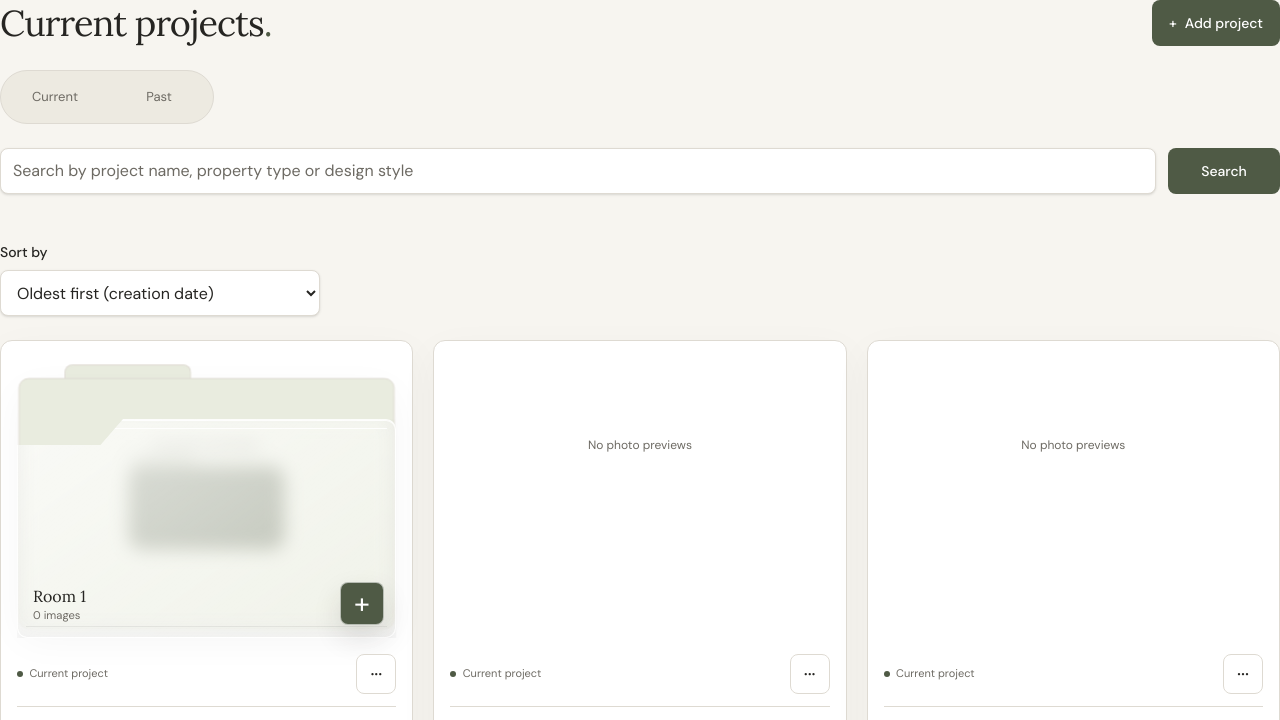
Test case: a list failure hides old cards and retries the same search, sort and page
Select "Newest first (creation date)" in the dropdown labelled "Sort by" at (160, 293), box [0,270,320,316]
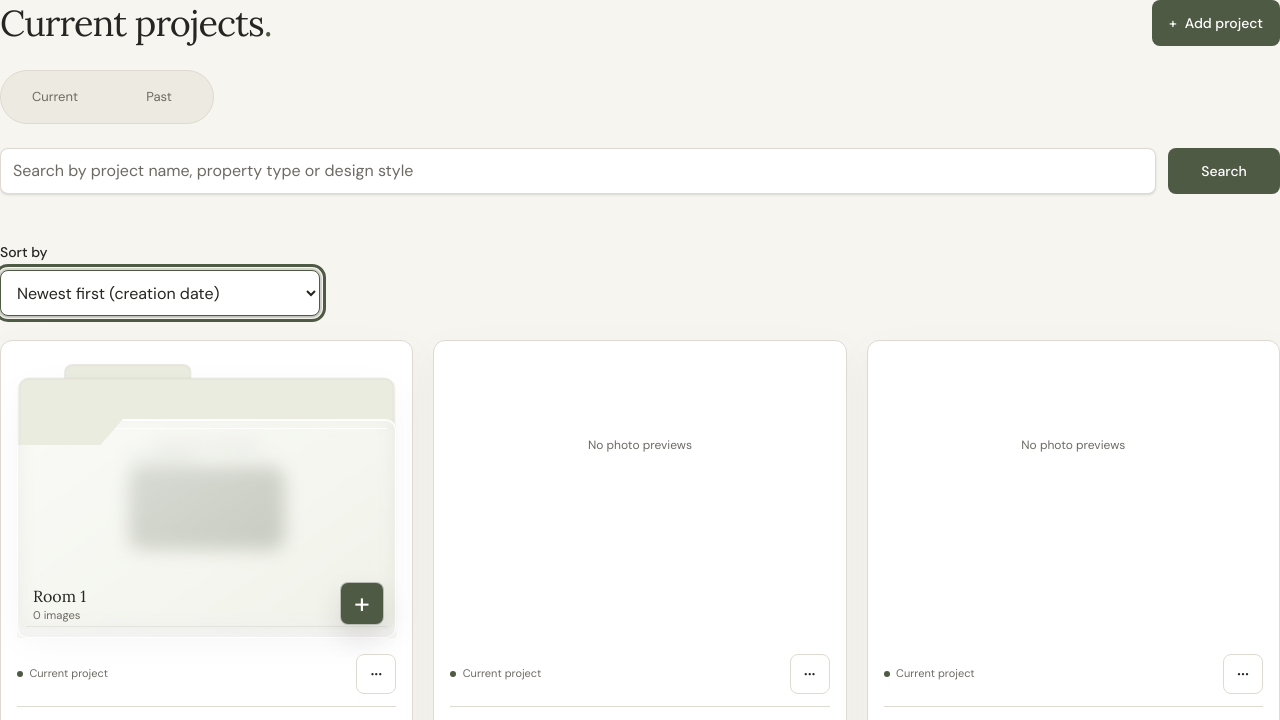
Type "Room" into the field labelled "Search".
click(578, 171); type("Room")  # box [0,148,1156,194]
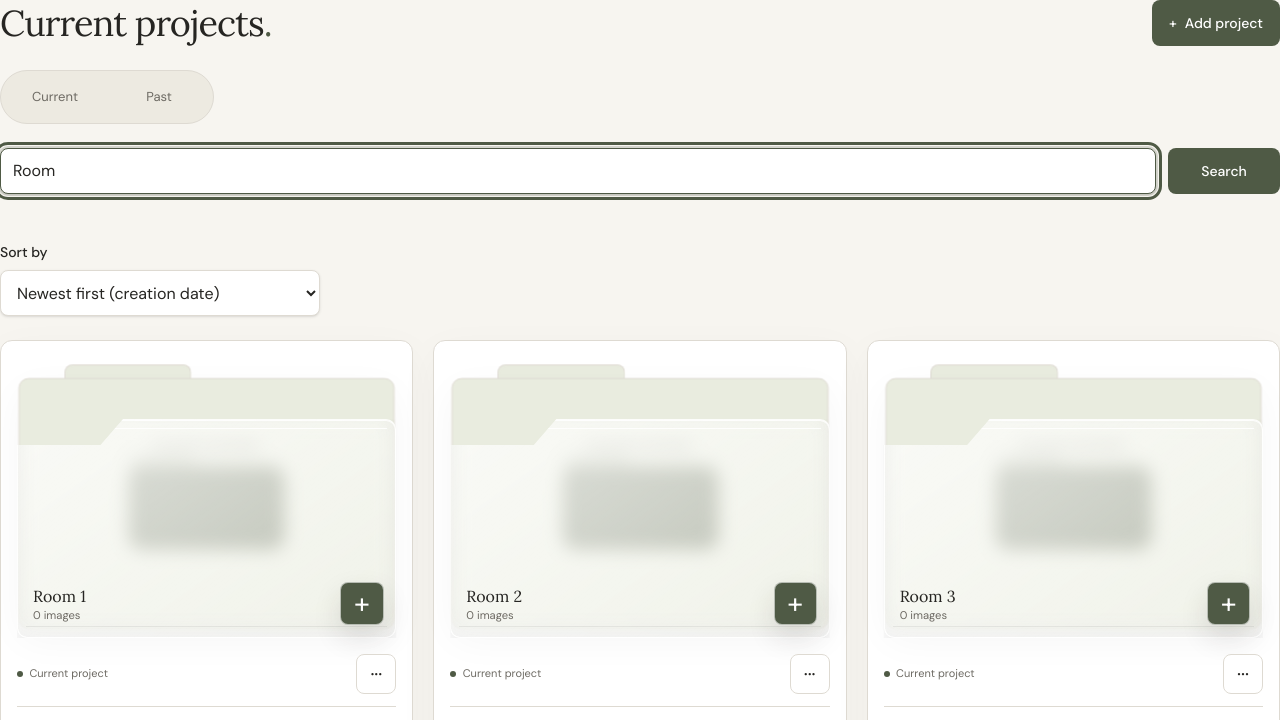
Click the button "Search".
click(1224, 171)  # box [1168,148,1279,194]
(page scrolled)
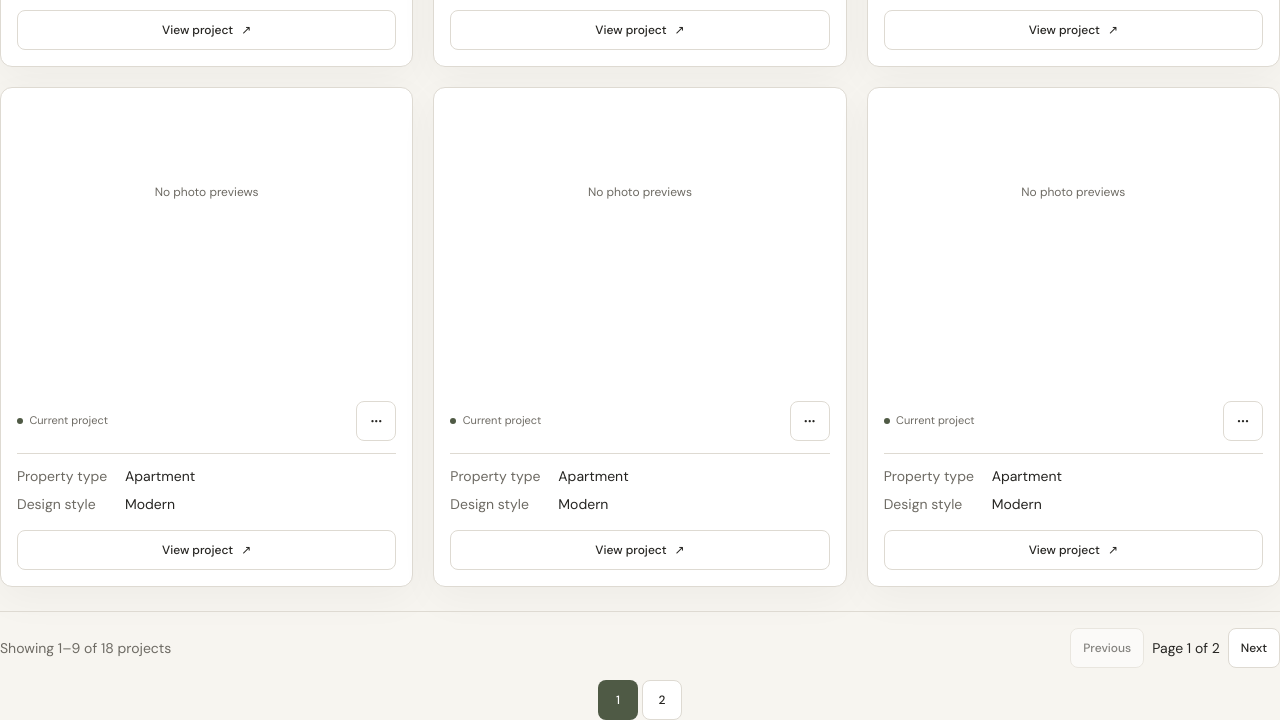
Click the button named "Page 2".
click(662, 700)  # box [642,680,682,719]
(page scrolled)
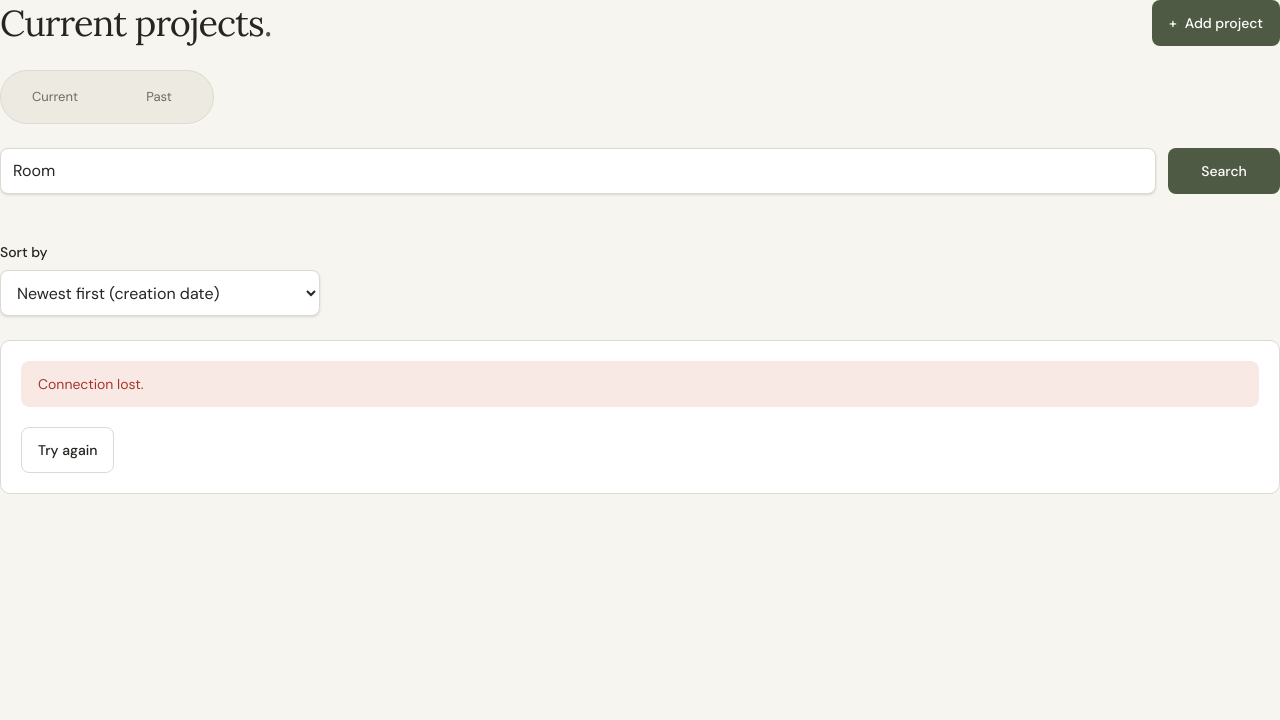
expect the message "Connection lost." is shown: met, box [21,361,1259,407]
Click the button "Try again".
click(68, 450)  # box [21,427,114,473]
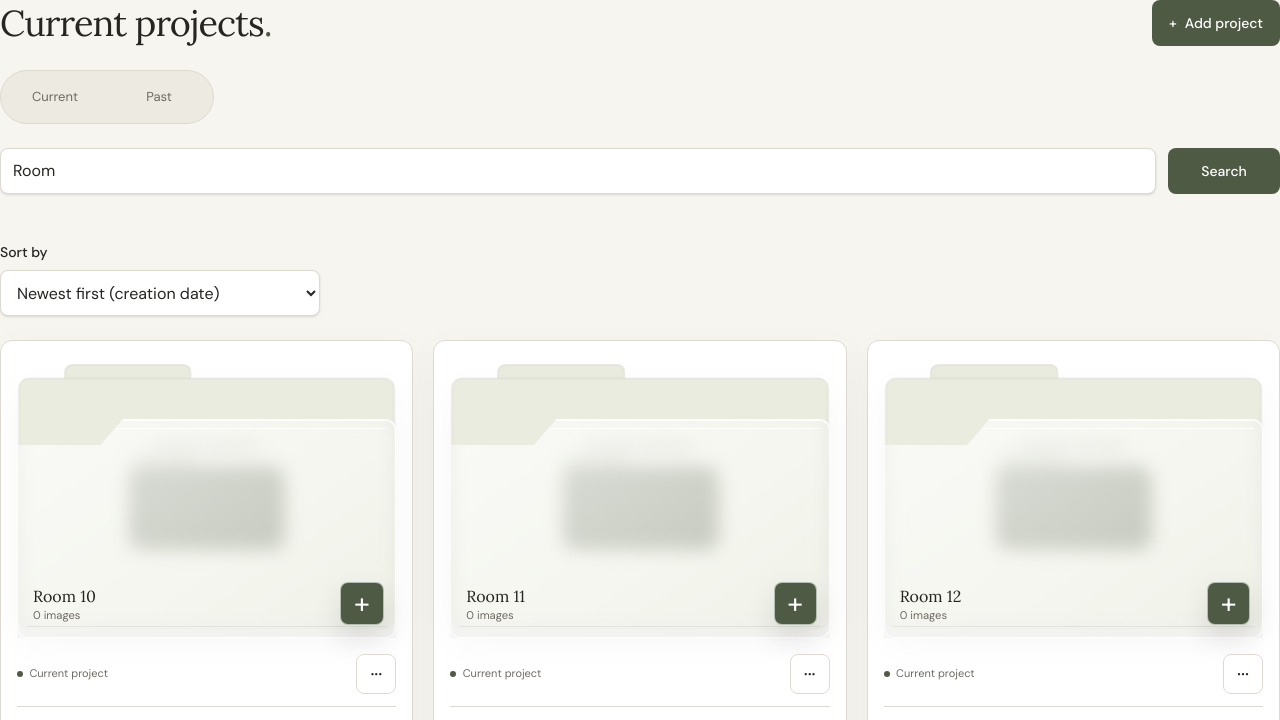
expect the text "Connection lost." is gone: met
